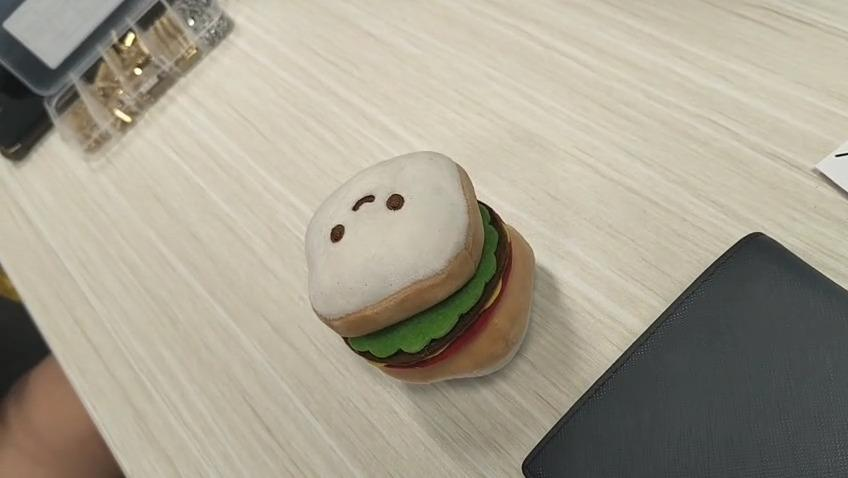objects: (301, 149, 534, 382)
